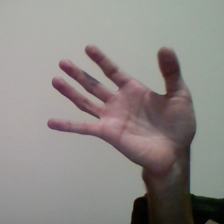left: (39, 33, 204, 179)
